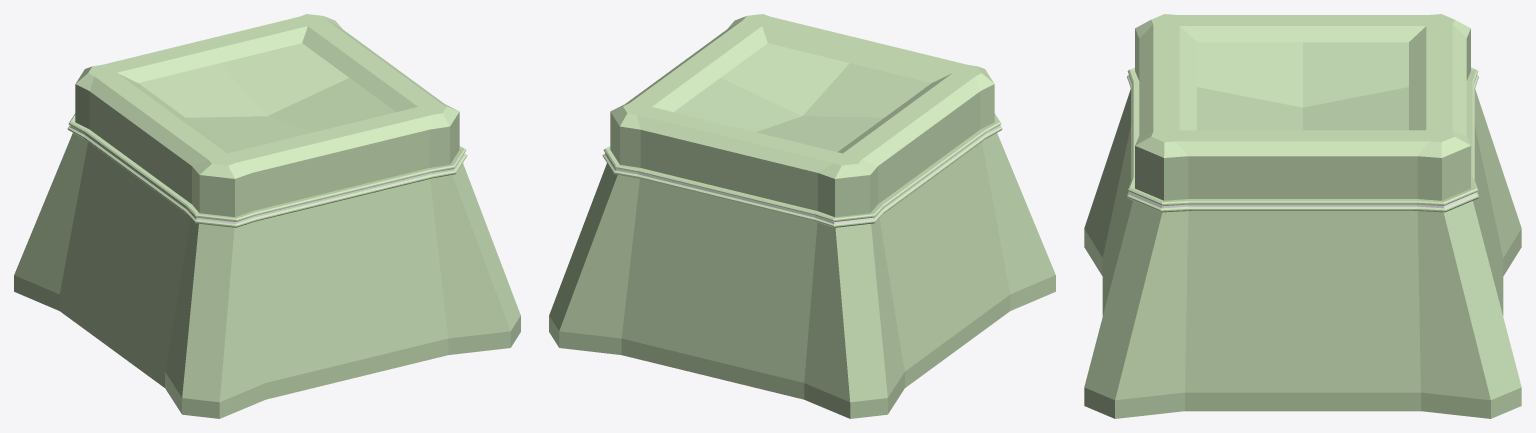
The model's file is turret_body.fbx.
3 renders of one model, left to right at view 1: azimuth 30°, elevation 25°; view 2: azimuth 150°, elevation 25°; view 3: azimuth 270°, elevation 25°, orthographic. The views are drawn at different scales.
Parts seen in each view (by area): view 1: Cube; view 2: Cube; view 3: Cube.
Boxes of the visible parts, left/top/right/bottom form: Cube: left=14, top=14, right=520, bottom=418; Cube: left=549, top=14, right=1055, bottom=418; Cube: left=1084, top=14, right=1521, bottom=418.
Bounding box in the file's own units: 190 × 119 × 190.
